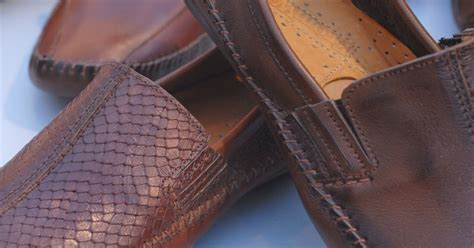cuero: (2, 1, 474, 248)
